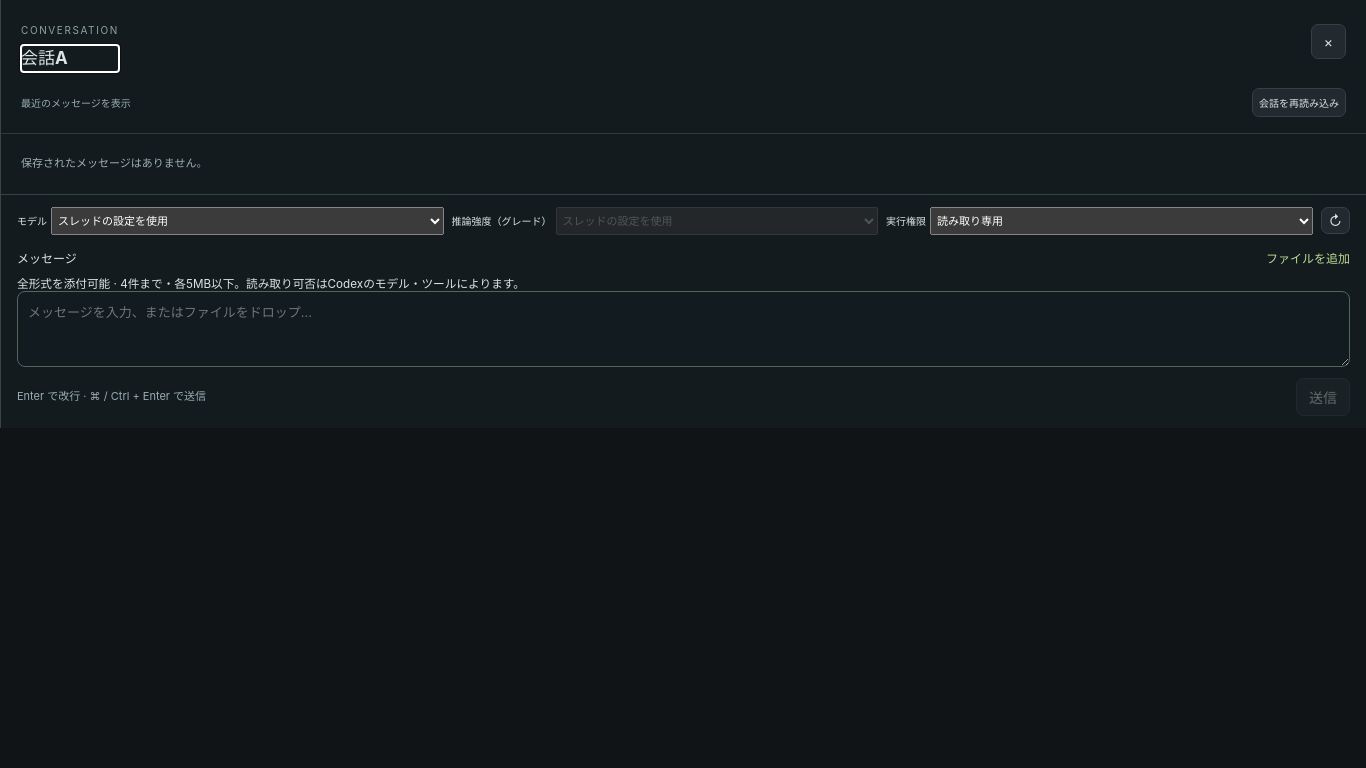
Test: keeps failed input and does not retry automatically
The width and height of the screenshot is (1366, 768).
Type "残す文章" into the text box labelled "メッセージ". click: (684, 329)
box: [17,291,1350,367]
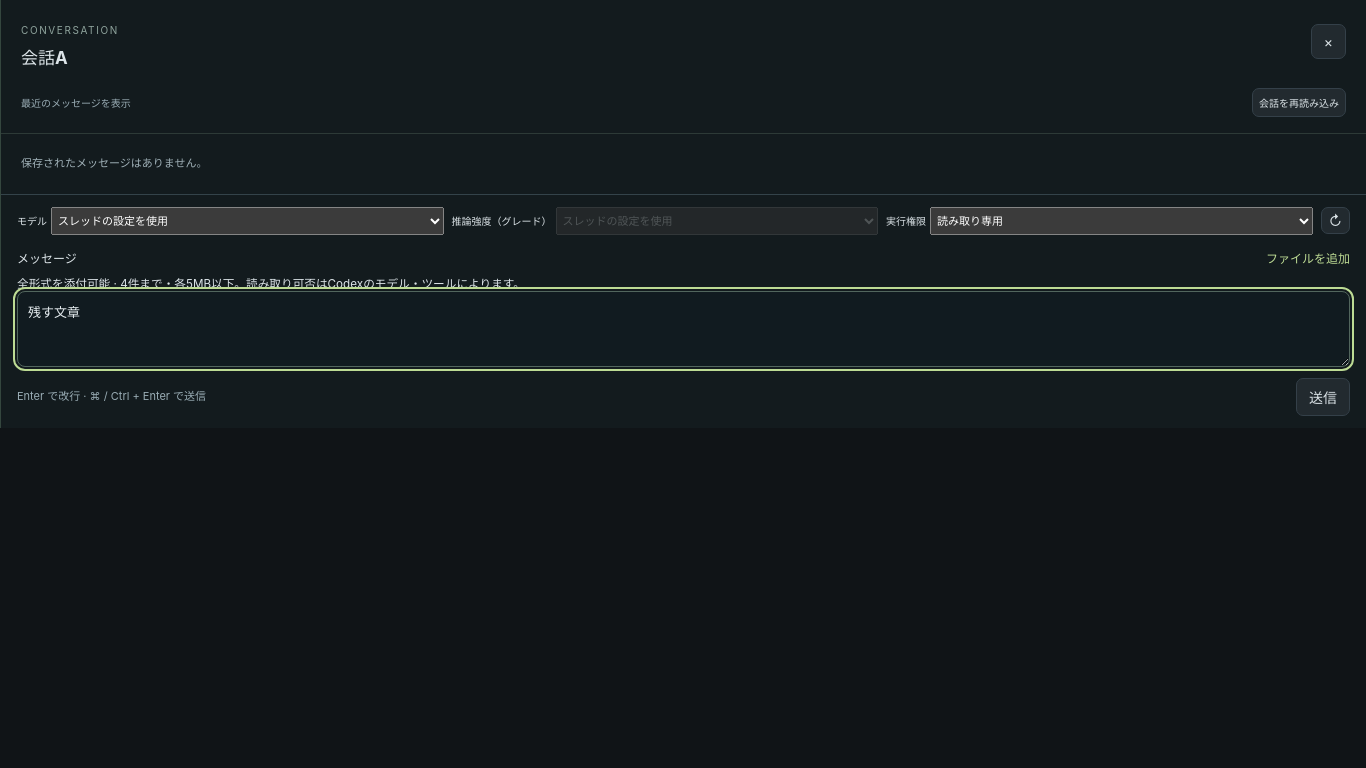
Click the button "送信". click: (1323, 397)
box: [1296,378,1350,416]
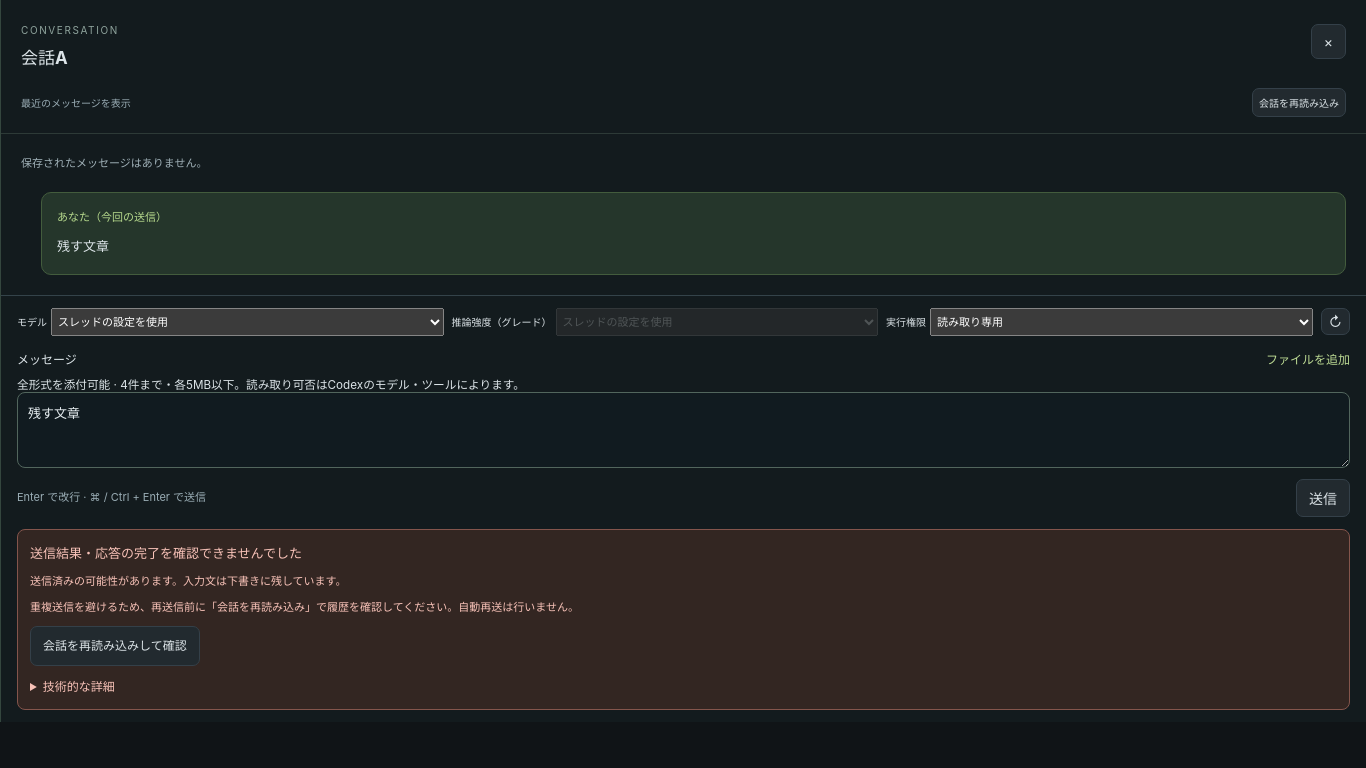
Result: the message shows "再送信前" at [30,600,579,614]
